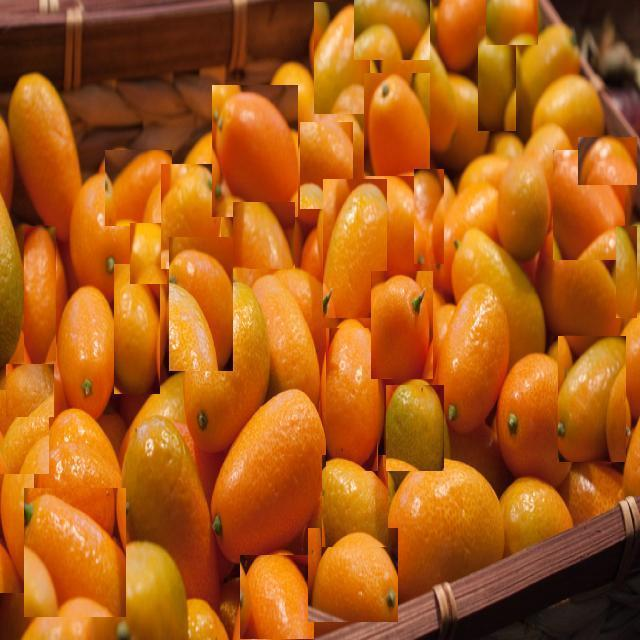Orange: (216, 390, 327, 560), (114, 417, 223, 589), (179, 276, 273, 450), (384, 455, 508, 585), (24, 488, 126, 617), (4, 74, 78, 232), (212, 85, 298, 217), (448, 236, 544, 352), (498, 356, 582, 484), (439, 276, 508, 417), (538, 228, 618, 348), (52, 274, 120, 408), (323, 179, 388, 318), (92, 546, 184, 640), (558, 336, 626, 462), (308, 528, 398, 622), (170, 237, 233, 371), (384, 18, 454, 132), (553, 150, 625, 260), (251, 269, 314, 390), (326, 328, 378, 471), (69, 168, 127, 288), (364, 73, 431, 176), (371, 271, 433, 379), (498, 474, 583, 552), (161, 164, 221, 269), (314, 2, 370, 114), (240, 555, 314, 639), (322, 455, 388, 547), (114, 264, 160, 394), (366, 170, 418, 274), (532, 66, 594, 150), (0, 440, 34, 593), (105, 150, 172, 227), (386, 385, 444, 471), (354, 0, 431, 60), (300, 122, 353, 209), (280, 276, 340, 350), (24, 226, 56, 364), (233, 202, 295, 269), (0, 390, 49, 474), (263, 55, 311, 140), (478, 26, 516, 131), (448, 70, 483, 166), (182, 118, 223, 190), (506, 160, 546, 232), (520, 128, 575, 180), (414, 169, 444, 264), (578, 137, 637, 185), (6, 364, 54, 417), (486, 0, 538, 45), (614, 314, 640, 403), (130, 223, 167, 284), (616, 226, 637, 318), (184, 598, 222, 639), (624, 408, 640, 500)
